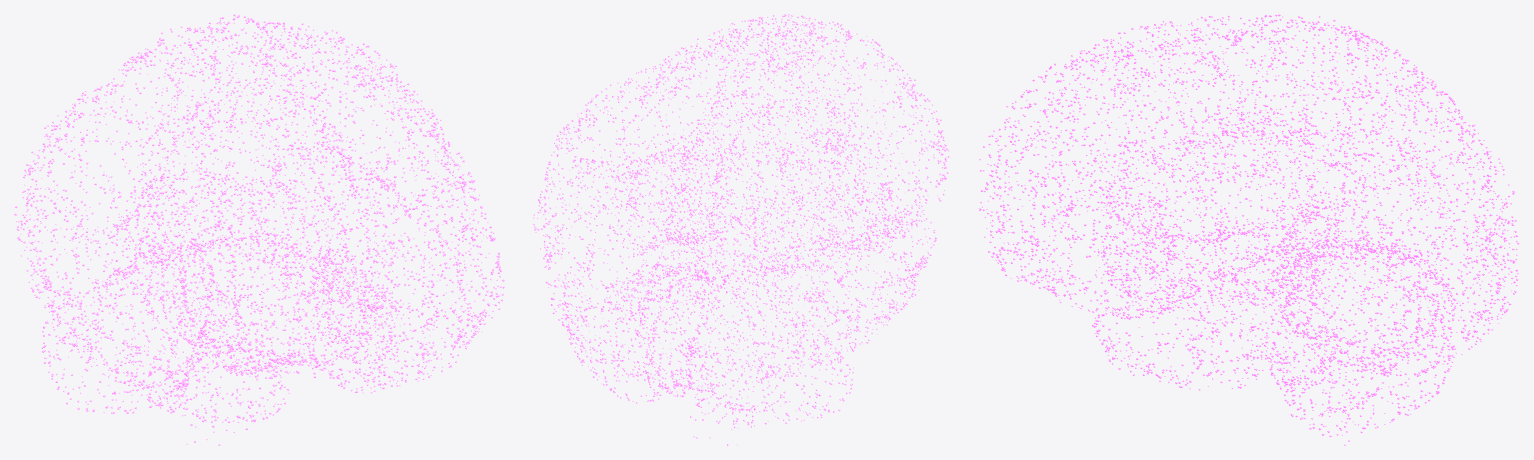
The model's file is Edited_brain.fbx.
The picture shows the model from 3 angles, left to right: view 1: azimuth 30°, elevation 25°; view 2: azimuth 150°, elevation 25°; view 3: azimuth 270°, elevation 25°; orthographic projection. The views are drawn at different scales.
Parts seen in each view (by area): view 1: Icosphere.001; view 2: Icosphere.001; view 3: Icosphere.001.
Boxes of the visible parts, x1,y1,x2,y2 form: Icosphere.001: (14, 14, 504, 445); Icosphere.001: (533, 14, 949, 445); Icosphere.001: (978, 14, 1519, 445).
Size of the model in its own units: 105 by 110 by 131.
